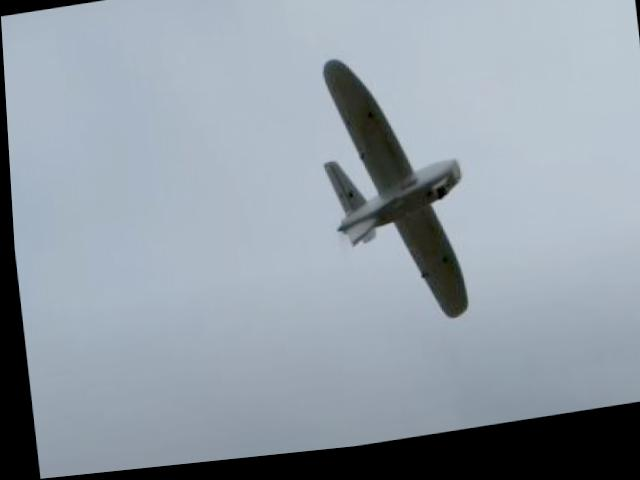uav: (299, 39, 487, 363)
